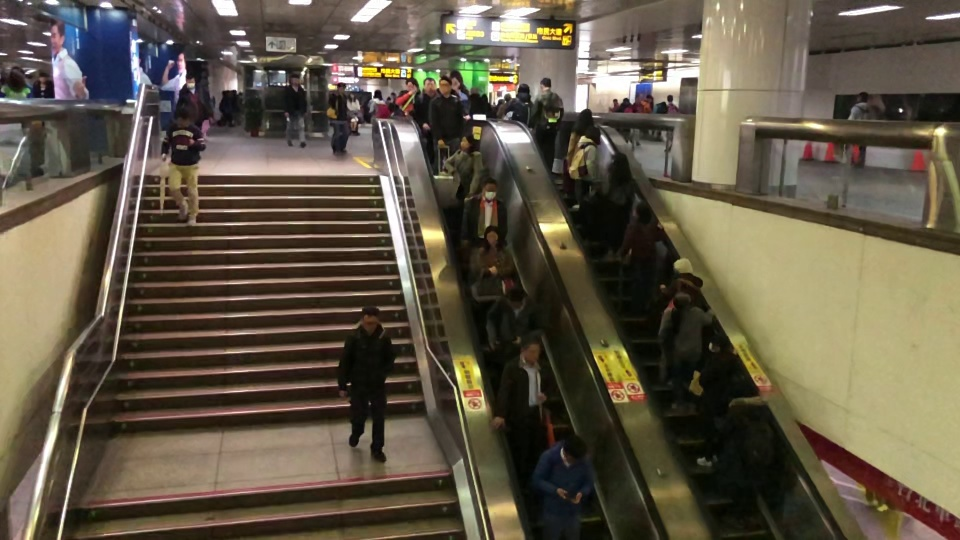person_head: (726, 370, 759, 398), (561, 435, 588, 465), (519, 333, 541, 364), (607, 151, 630, 180), (505, 283, 529, 309), (707, 330, 731, 353), (631, 203, 653, 225), (671, 290, 694, 311), (480, 176, 497, 201), (483, 225, 501, 248), (671, 257, 693, 275), (575, 107, 594, 127), (362, 306, 377, 330), (460, 133, 477, 152), (175, 105, 191, 123), (438, 76, 452, 95), (9, 68, 24, 85), (404, 77, 420, 92), (422, 77, 436, 94), (539, 77, 552, 91), (517, 82, 530, 95), (185, 73, 195, 89), (856, 91, 868, 103), (372, 89, 383, 100), (39, 72, 48, 84), (289, 75, 299, 85), (469, 86, 479, 96), (480, 93, 488, 104), (337, 82, 345, 92), (645, 94, 653, 103), (348, 91, 356, 99), (633, 95, 641, 103), (504, 93, 511, 102), (667, 93, 673, 103), (622, 97, 629, 104), (660, 101, 667, 108), (390, 92, 396, 99), (224, 90, 230, 96), (612, 98, 618, 104), (231, 89, 236, 96)
person_vbox: (710, 370, 789, 531), (336, 304, 397, 468), (488, 333, 548, 483), (695, 330, 749, 467), (657, 290, 714, 411), (531, 435, 595, 540), (160, 105, 206, 229), (614, 203, 664, 317), (588, 151, 637, 262), (484, 283, 553, 361), (458, 176, 508, 251), (565, 106, 601, 210), (427, 76, 464, 176), (527, 77, 565, 173), (466, 225, 516, 292), (443, 133, 483, 195), (846, 90, 877, 168), (658, 257, 703, 306), (414, 77, 438, 166), (178, 73, 214, 130), (283, 75, 310, 148), (327, 82, 351, 153), (462, 86, 485, 151), (503, 82, 534, 125), (394, 77, 420, 114), (0, 67, 31, 98), (615, 97, 635, 144), (663, 93, 678, 152), (367, 89, 386, 124), (631, 95, 644, 145), (346, 91, 361, 133), (650, 101, 667, 137), (32, 72, 54, 98), (639, 94, 653, 134), (222, 90, 233, 127), (495, 93, 511, 118), (231, 89, 241, 127), (481, 93, 494, 118), (608, 97, 620, 113), (384, 92, 396, 104)
